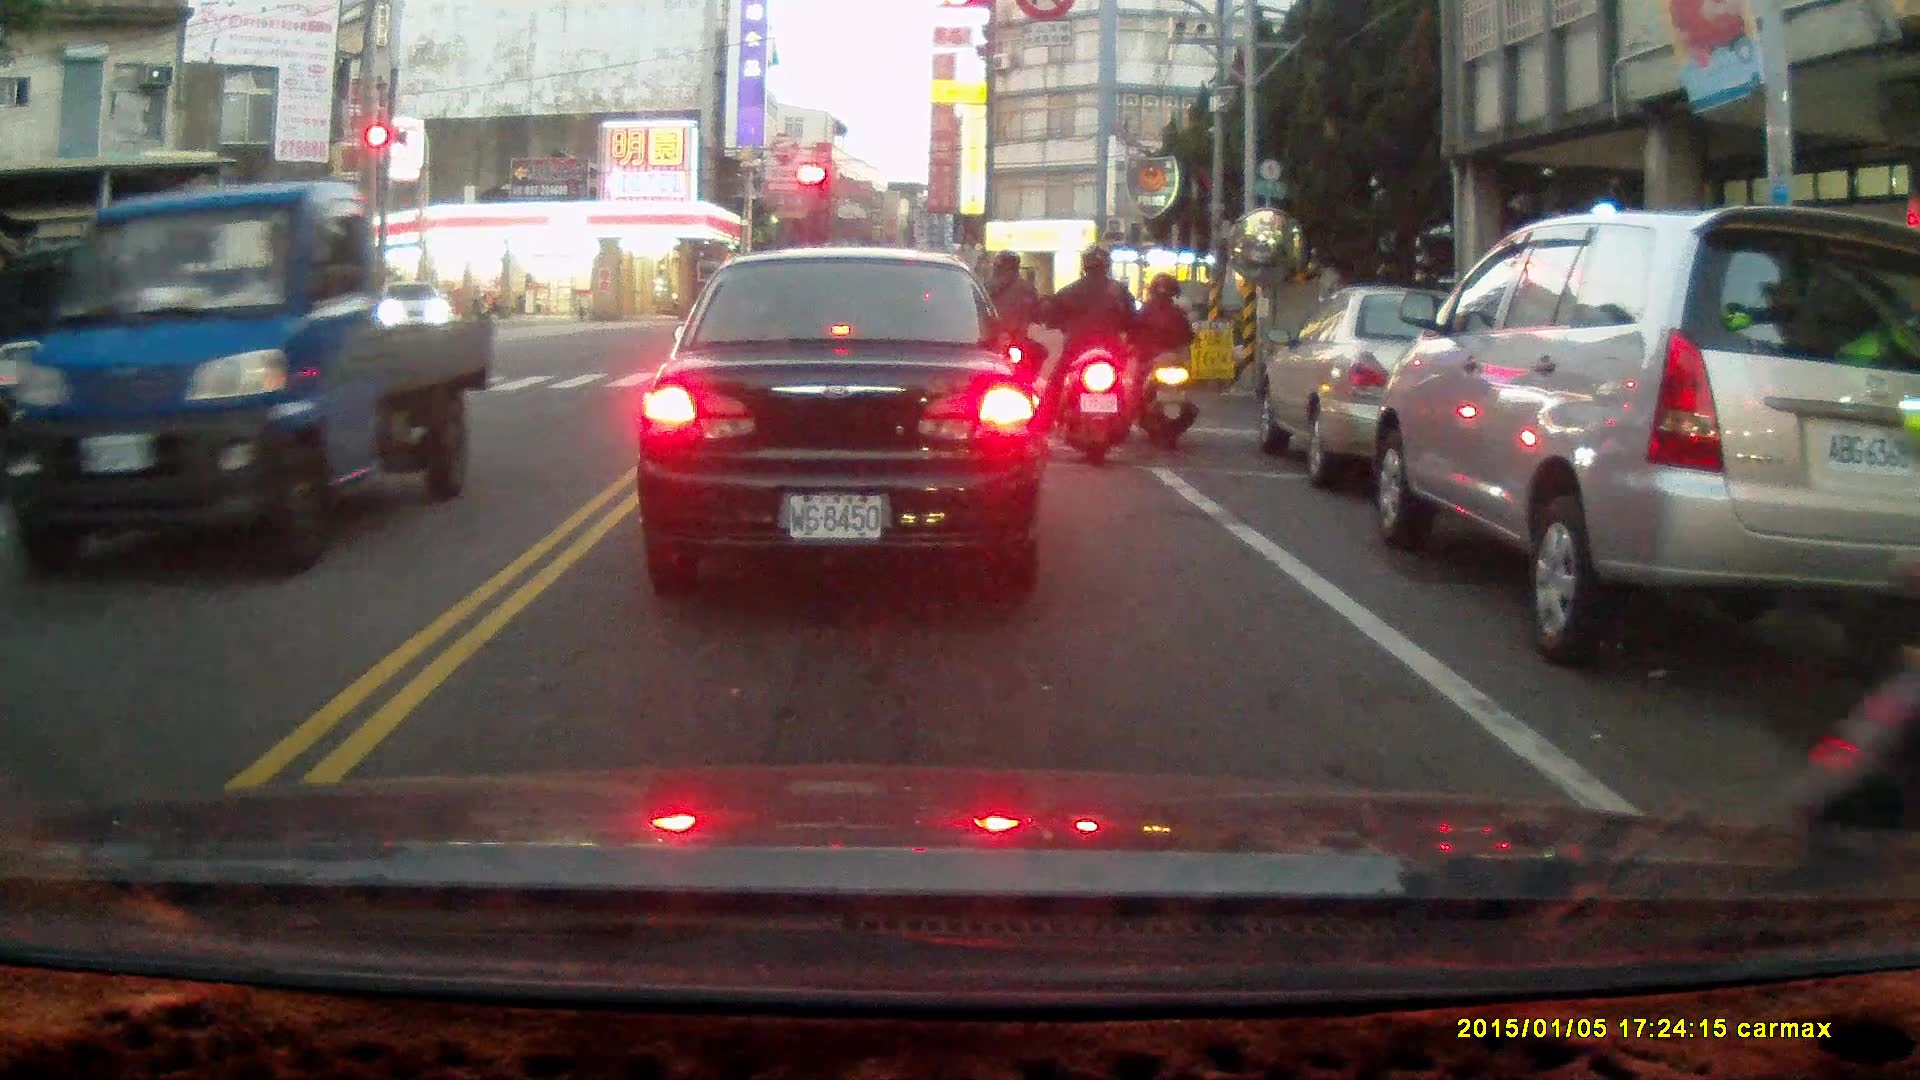rider: (1036, 248, 1141, 466), (965, 254, 1047, 433), (1127, 275, 1196, 451)
vehicle: (1362, 202, 1920, 665), (6, 176, 487, 582), (636, 250, 1042, 599), (1255, 284, 1555, 493)
